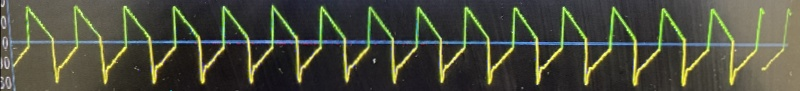peepi: (3, 0, 753, 91)
